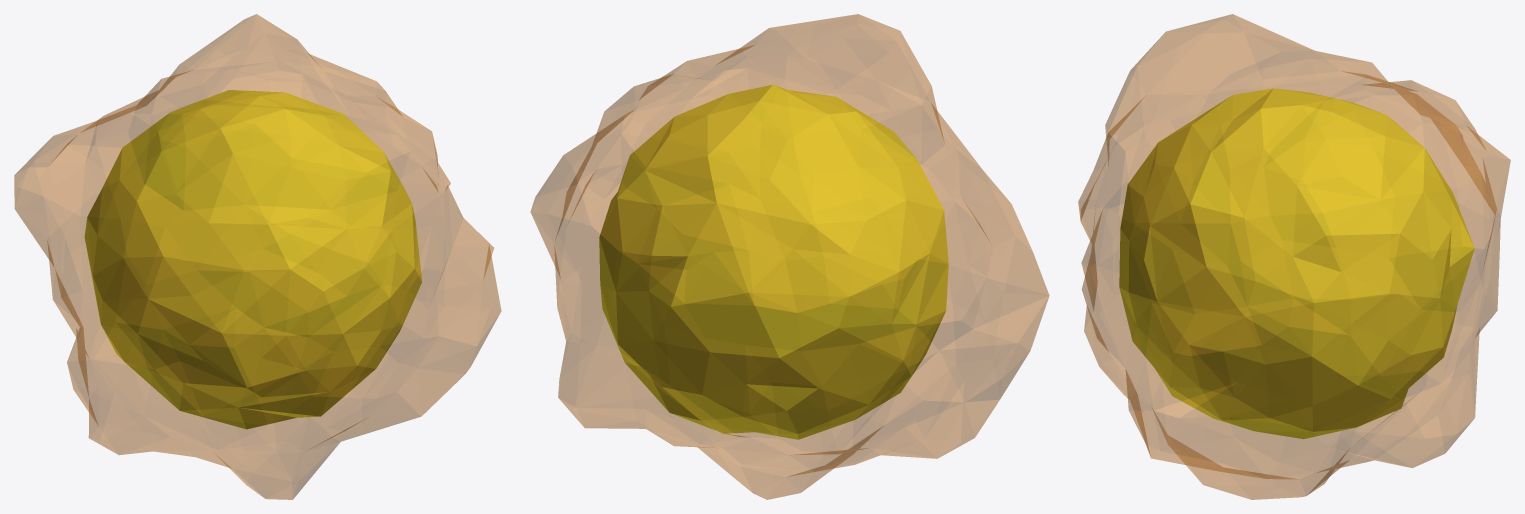
Rendered from gas_planet4.fbx.
3 renders of one model, left to right at view 1: azimuth 30°, elevation 25°; view 2: azimuth 150°, elevation 25°; view 3: azimuth 270°, elevation 25°, orthographic. The views are drawn at different scales.
Parts seen in each view (by area): view 1: gas_planet4; view 2: gas_planet4; view 3: gas_planet4.
Boxes of the visible parts, bbox=[...] form: gas_planet4: bbox=[14, 14, 501, 499]; gas_planet4: bbox=[530, 14, 1049, 499]; gas_planet4: bbox=[1078, 14, 1510, 499].
Bounding box in the file's own units: 273 × 273 × 245.
